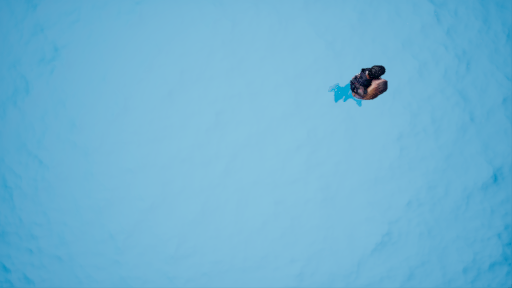person: (327, 62, 390, 109)
